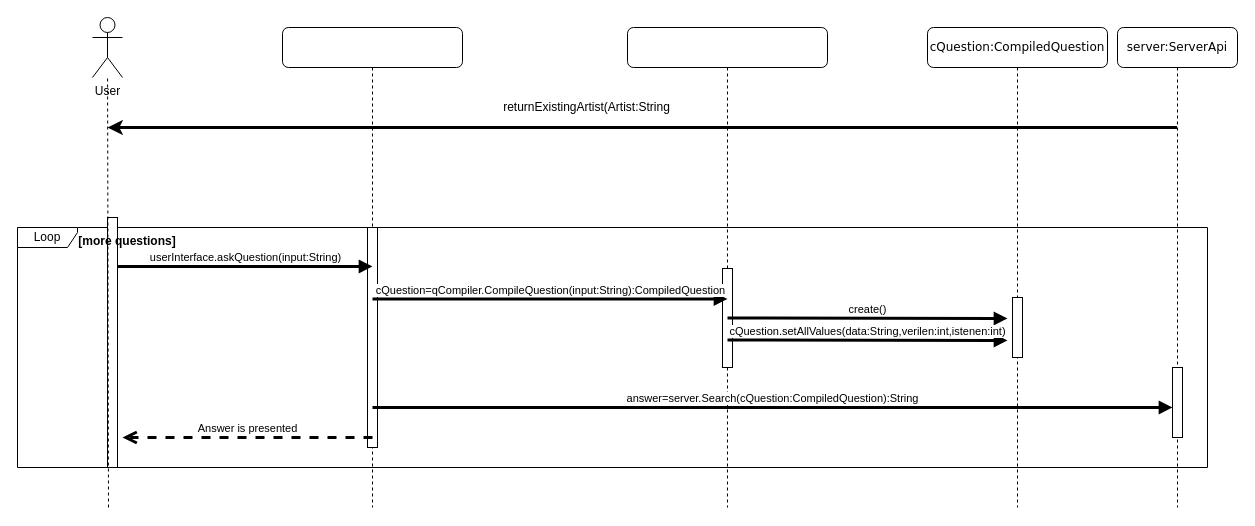
Some shapes in this 1255 by 526 pixel diagram are drawn without their labels. Each missing label, with the centre of its shape:
"compiler:QuestionCompiler" belongs at point (727, 267).
"userInterface:UserInterface" belongs at point (372, 267).
